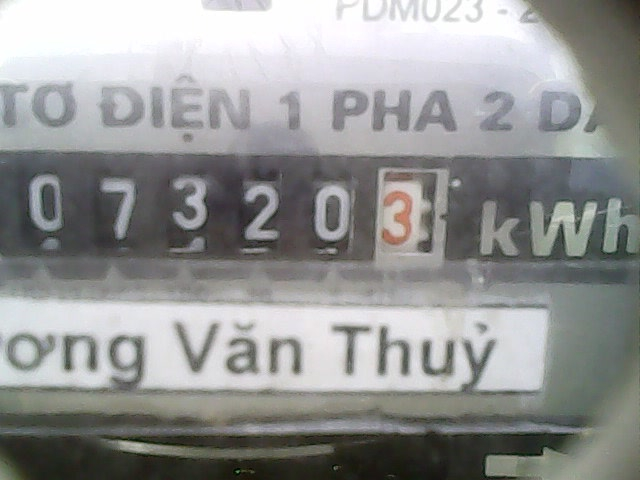phy_plate: (6, 150, 464, 275)
